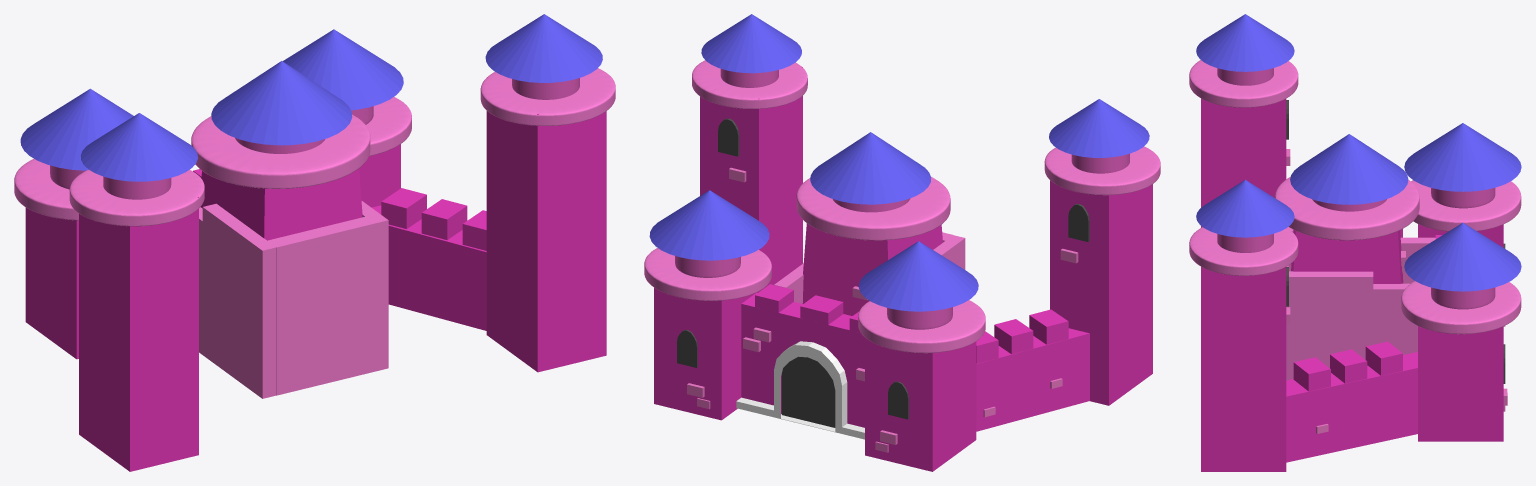
The model's file is castle.fbx.
3 views of the same model, side by side, from view 1: azimuth 30°, elevation 25°; view 2: azimuth 150°, elevation 25°; view 3: azimuth 270°, elevation 25° (orthographic). The views are drawn at different scales.
Visible parts, largest first — view 1: Cube.013, Cube.032, Cone.003, Cylinder.004, Cylinder.002; view 2: Cube.013, Cone.003, Cylinder.004, Cylinder.002, Plane.003, Plane.002, Plane.001, Cube.030, Cube.032; view 3: Cube.013, Cone.003, Cylinder.004, Cube.032, Cylinder.002, Cube.030, Plane.001.
Part boxes in pixels (<box>): Cube.013: <box>25,77,606,471</box>; Cube.032: <box>199,201,388,398</box>; Cone.003: <box>20,14,602,181</box>; Cylinder.004: <box>14,68,615,226</box>; Cylinder.002: <box>50,78,579,199</box>; Cube.013: <box>654,66,1152,471</box>; Cone.003: <box>649,14,1149,311</box>; Cylinder.004: <box>644,60,1160,353</box>; Cylinder.002: <box>675,69,1129,329</box>; Plane.003: <box>736,341,864,439</box>; Plane.002: <box>782,356,835,427</box>; Plane.001: <box>677,118,1089,419</box>; Cube.030: <box>687,167,1078,452</box>; Cube.032: <box>774,232,965,303</box>; Cube.013: <box>1201,88,1503,471</box>; Cone.003: <box>1196,14,1521,291</box>; Cylinder.004: <box>1189,60,1521,334</box>; Cube.032: <box>1286,227,1435,380</box>; Cylinder.002: <box>1217,68,1495,309</box>; Cube.030: <box>1286,149,1507,433</box>; Plane.001: <box>1286,100,1505,383</box>.
Bounding box in the file's own units: 2113 × 1267 × 1369.
